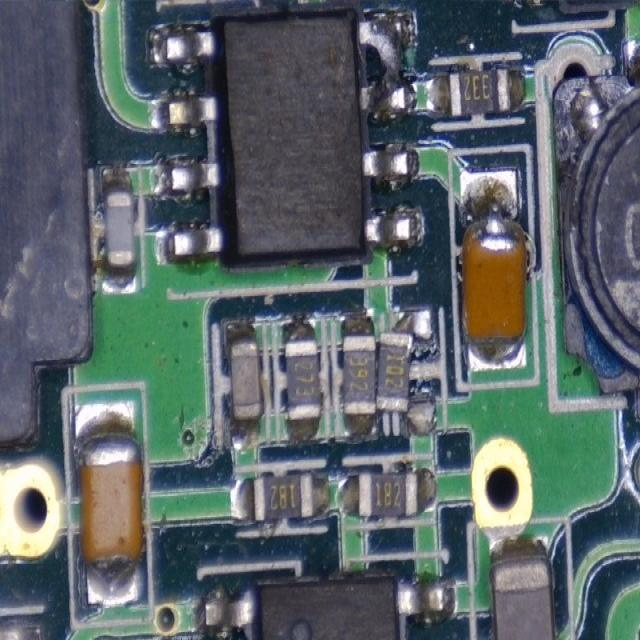Incorrect_installation: (461, 170, 527, 372), (376, 310, 435, 435)
Short_circuit: (359, 10, 417, 110)
